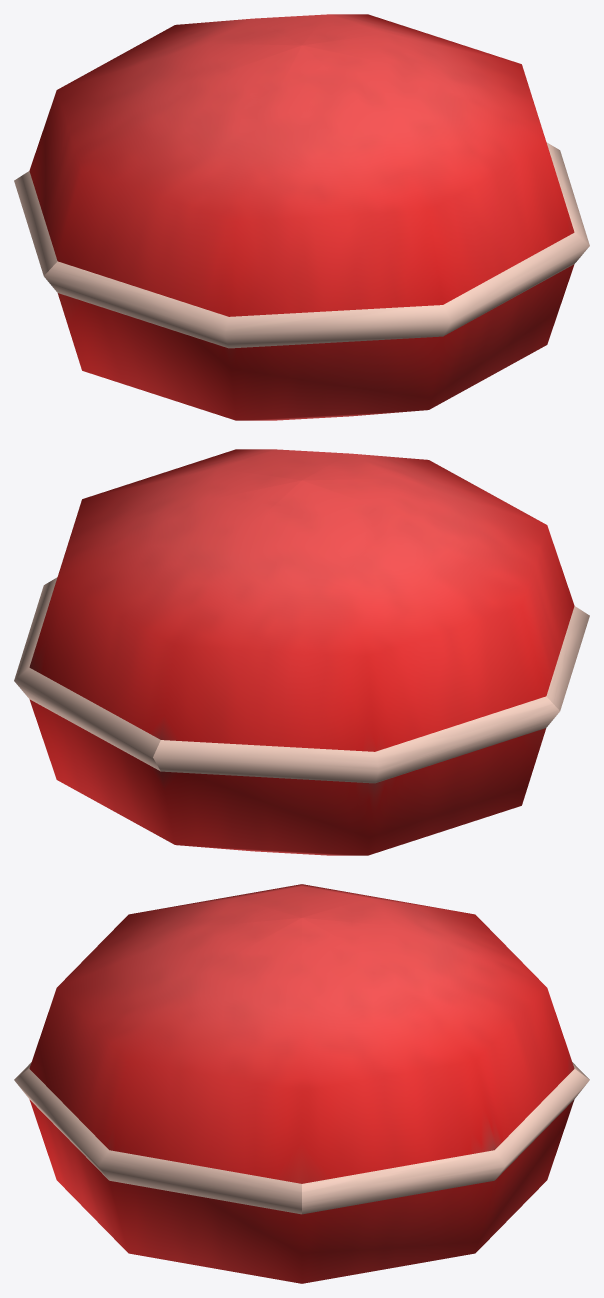
File: Cookie_Macaroon_E.FBX
3 renders of one model, top to bottom at view 1: azimuth 30°, elevation 25°; view 2: azimuth 150°, elevation 25°; view 3: azimuth 270°, elevation 25°, orthographic. The views are drawn at different scales.
Parts seen in each view (by area): view 1: Macaroon; view 2: Macaroon; view 3: Macaroon.
Part boxes in pixels (left/top/right/bottom): Macaroon: left=14, top=14, right=589, bottom=420; Macaroon: left=14, top=449, right=589, bottom=855; Macaroon: left=14, top=884, right=589, bottom=1283.
Size of the model in its own units: 27.82 by 17.6 by 27.82.
